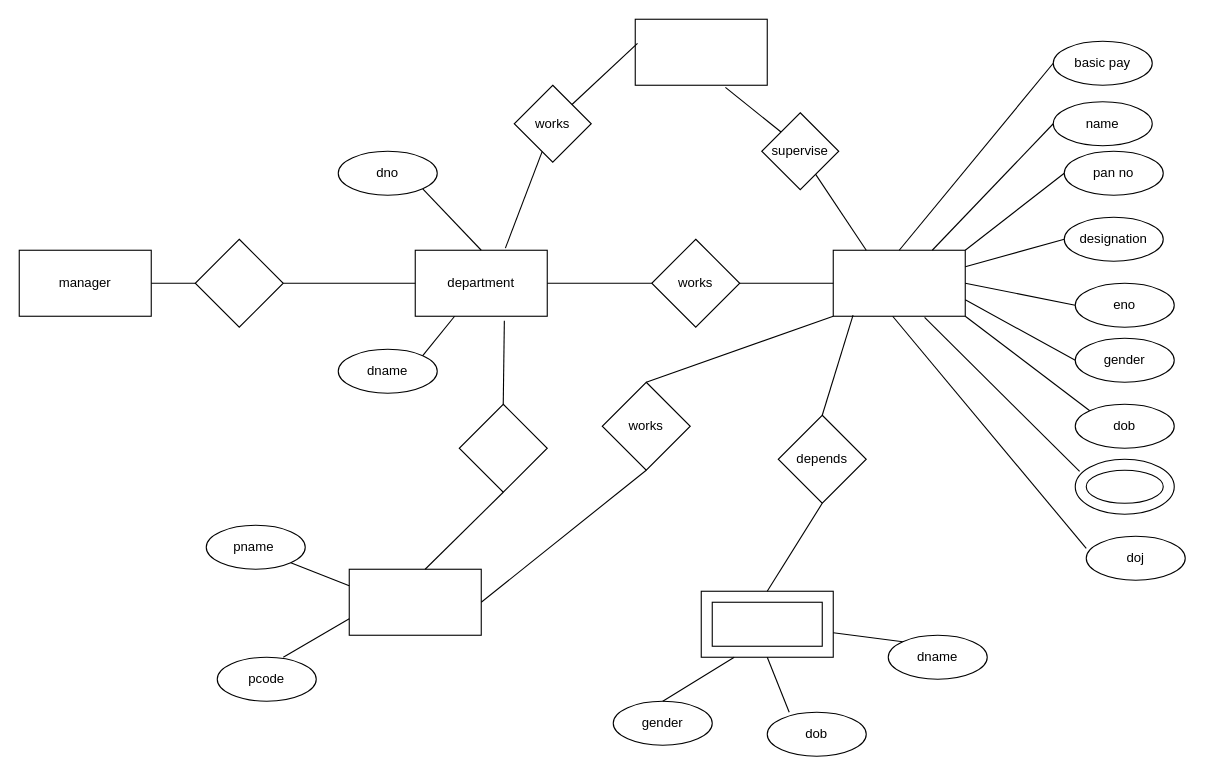
Some shapes in this 1205 by 776 pixel diagram are drawn without their labels. Each missing label, with the box of its shape:
dependent: (711, 601, 822, 646)
employee: (832, 249, 965, 316)
enroll: (458, 403, 547, 492)
manages: (194, 238, 283, 327)
project: (348, 568, 481, 635)
skills: (1085, 469, 1163, 503)
supervisor: (634, 18, 767, 85)
